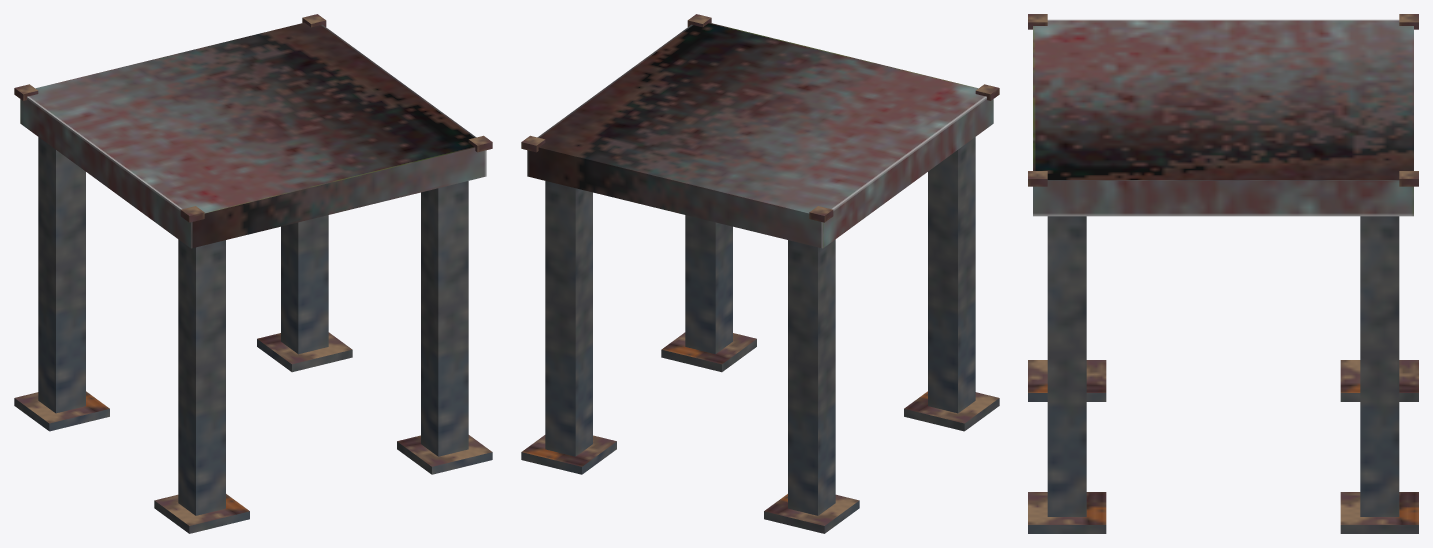
File: SM_PLATAFORMAMETAL_02.fbx
3 renders of one model, left to right at view 1: azimuth 30°, elevation 25°; view 2: azimuth 150°, elevation 25°; view 3: azimuth 270°, elevation 25°, orthographic. The views are drawn at different scales.
Parts seen in each view (by area): view 1: SM_PLATAFORMAMETAL_02; view 2: SM_PLATAFORMAMETAL_02; view 3: SM_PLATAFORMAMETAL_02.
Boxes of the visible parts, x1,y1,x2,y2 form: SM_PLATAFORMAMETAL_02: [14, 14, 492, 533]; SM_PLATAFORMAMETAL_02: [521, 14, 999, 533]; SM_PLATAFORMAMETAL_02: [1028, 14, 1418, 533].
Bounding box in the file's own units: 2 × 2 × 2.
